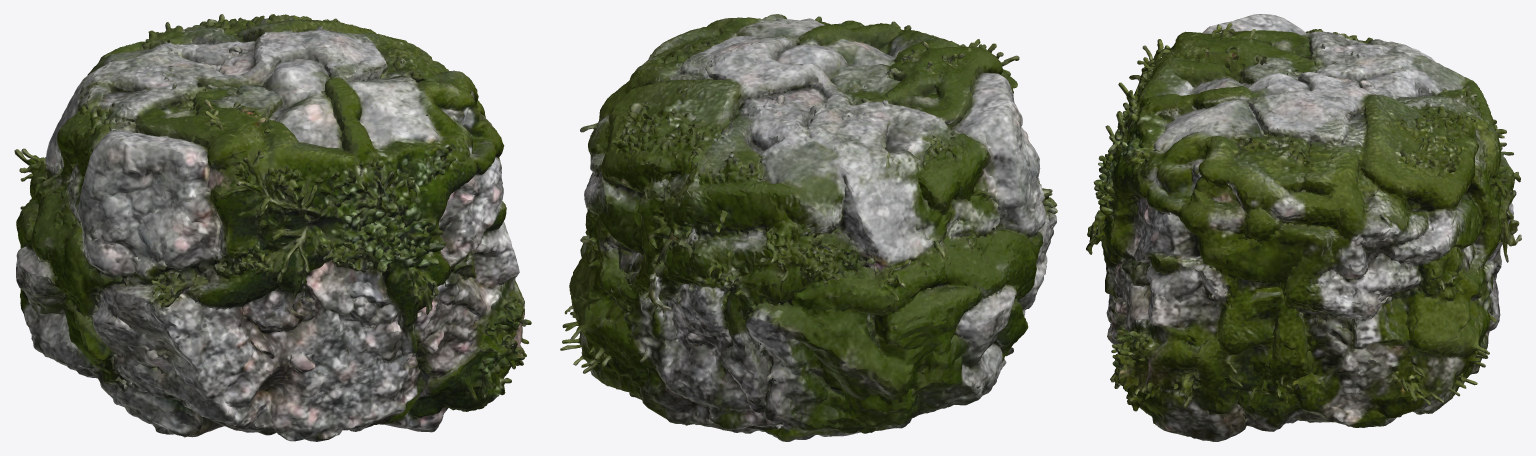
File: macro-moss-v7.glb
3 views of the same model, side by side, from view 1: azimuth 30°, elevation 25°; view 2: azimuth 150°, elevation 25°; view 3: azimuth 270°, elevation 25° (orthographic). The views are drawn at different scales.
Parts seen in each view (by area): view 1: geometry_0; view 2: geometry_0; view 3: geometry_0.
Part boxes in pixels (bbox=[...]): geometry_0: bbox=[14, 14, 531, 441]; geometry_0: bbox=[560, 14, 1057, 441]; geometry_0: bbox=[1086, 14, 1521, 441].
Size of the model in its own units: 0.45 by 0.3604 by 0.4504.
1 material, 1 textured.
